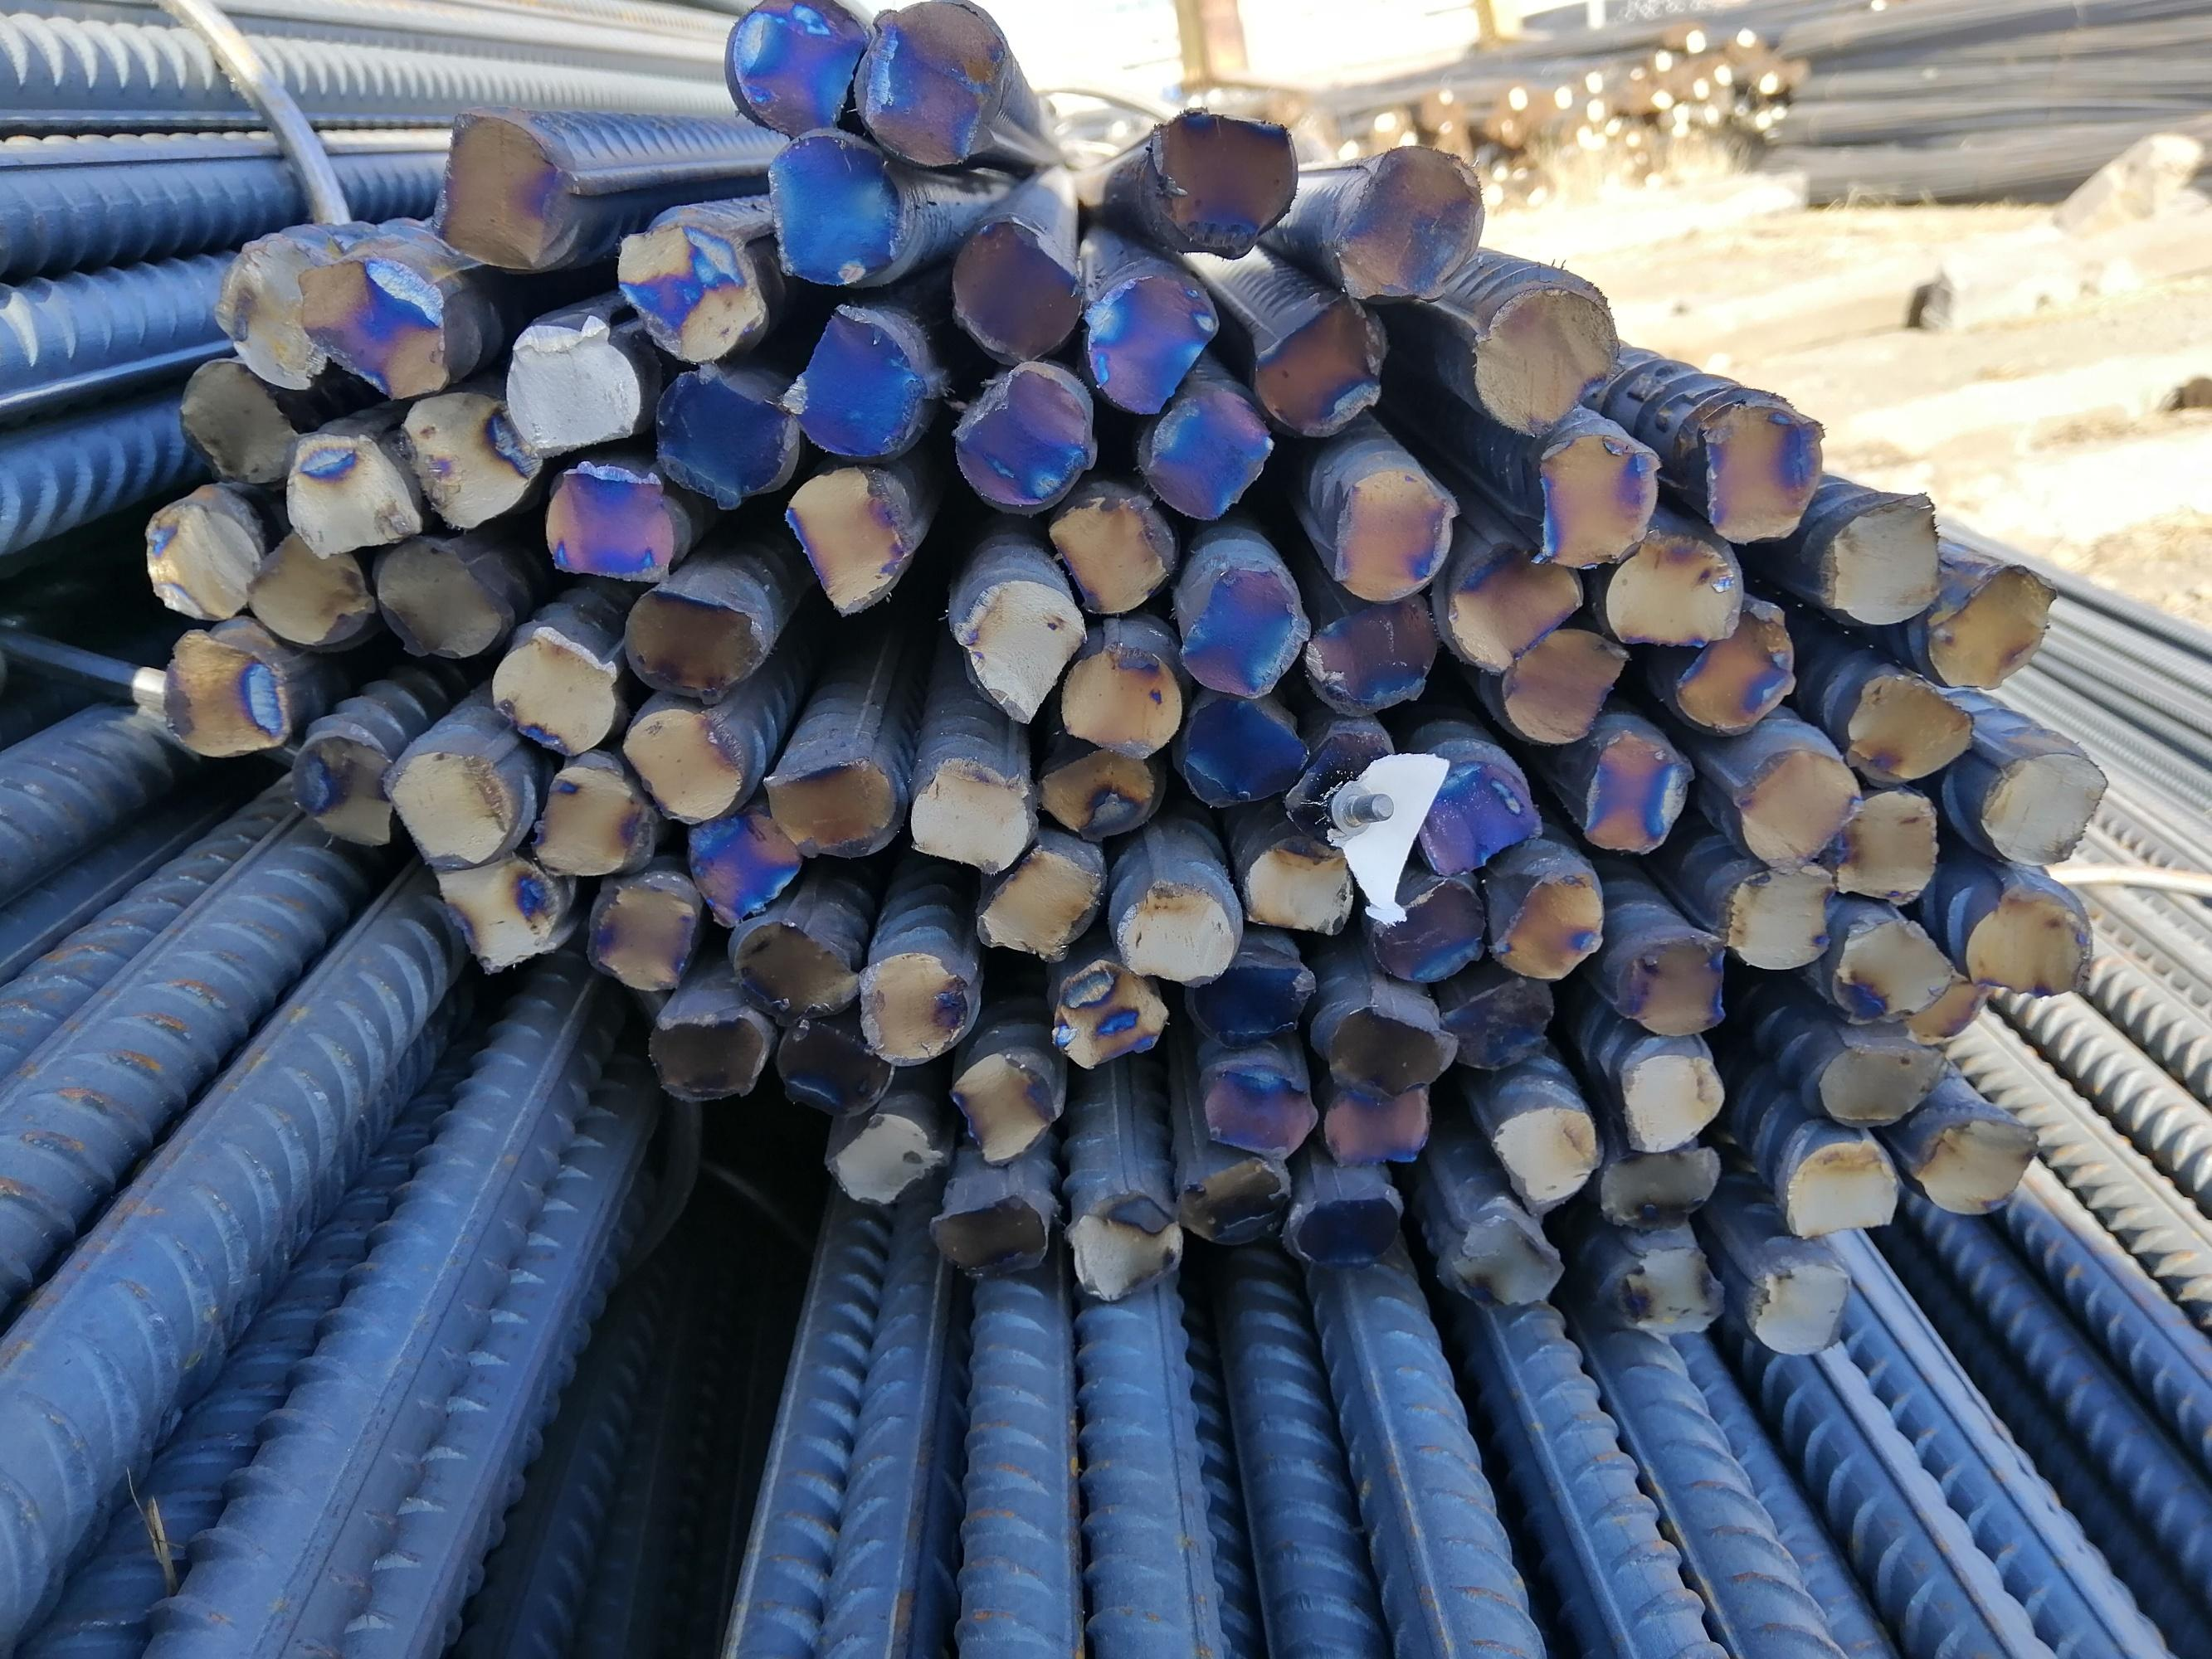bar: (608, 207, 776, 368), (1468, 268, 1623, 441), (849, 0, 1004, 171), (1335, 139, 1489, 303), (295, 247, 458, 399), (431, 105, 577, 272), (1152, 101, 1300, 260), (786, 300, 929, 464), (760, 127, 905, 288), (1131, 382, 1283, 528), (950, 362, 1093, 518), (497, 305, 643, 455), (1438, 530, 1588, 674), (389, 387, 540, 530), (1694, 382, 1827, 544), (777, 464, 924, 610), (214, 220, 336, 394), (716, 0, 863, 145), (648, 362, 797, 505), (1532, 422, 1666, 579), (1088, 265, 1225, 416), (950, 575, 1089, 723), (950, 209, 1086, 359), (621, 572, 767, 706), (1924, 547, 2055, 695), (155, 627, 295, 763), (275, 425, 417, 559), (1816, 483, 1944, 631), (537, 451, 676, 586), (1309, 589, 1449, 723), (1175, 558, 1306, 701), (899, 742, 1035, 878), (1727, 739, 1863, 875), (1598, 528, 1747, 652), (1257, 293, 1389, 430), (1318, 467, 1452, 601), (1400, 751, 1539, 880), (488, 626, 622, 758), (378, 742, 518, 870), (1048, 481, 1173, 622), (368, 535, 511, 659), (1964, 875, 2100, 1004), (1283, 720, 1410, 856), (1675, 596, 1801, 732), (1497, 617, 1628, 744), (429, 854, 565, 976), (1975, 748, 2111, 870), (1039, 948, 1171, 1072), (176, 350, 298, 484), (1848, 662, 1977, 788), (1180, 681, 1300, 816), (521, 760, 650, 884), (143, 493, 261, 627), (852, 946, 980, 1070), (1055, 634, 1184, 756), (617, 704, 748, 824), (971, 840, 1105, 957), (680, 805, 802, 929), (251, 523, 368, 652), (1114, 870, 1243, 986), (1492, 861, 1612, 985), (765, 756, 903, 864), (580, 871, 699, 997), (943, 1044, 1062, 1169), (1447, 1199, 1574, 1316), (1813, 1025, 1945, 1136), (1832, 913, 1954, 1033), (1710, 857, 1834, 976), (1065, 1183, 1184, 1304), (1365, 866, 1485, 985), (1921, 1101, 2043, 1216), (1834, 779, 1945, 904), (1605, 925, 1731, 1037), (288, 721, 399, 845), (1581, 735, 1693, 859), (736, 913, 861, 1019), (1199, 1058, 1321, 1166), (1239, 828, 1354, 939), (1325, 997, 1457, 1093), (811, 1108, 945, 1202), (1780, 1138, 1898, 1244), (922, 1192, 1056, 1284), (1187, 953, 1314, 1049), (645, 1009, 769, 1107), (1614, 1049, 1727, 1155), (1039, 739, 1156, 842), (1605, 1237, 1734, 1330), (1492, 1100, 1598, 1211), (1443, 976, 1558, 1079), (776, 1016, 894, 1114), (1740, 1260, 1855, 1358), (1175, 1154, 1288, 1251), (1604, 1143, 1726, 1234), (1323, 1075, 1433, 1171), (1288, 1185, 1403, 1269), (1902, 965, 1999, 1040)
